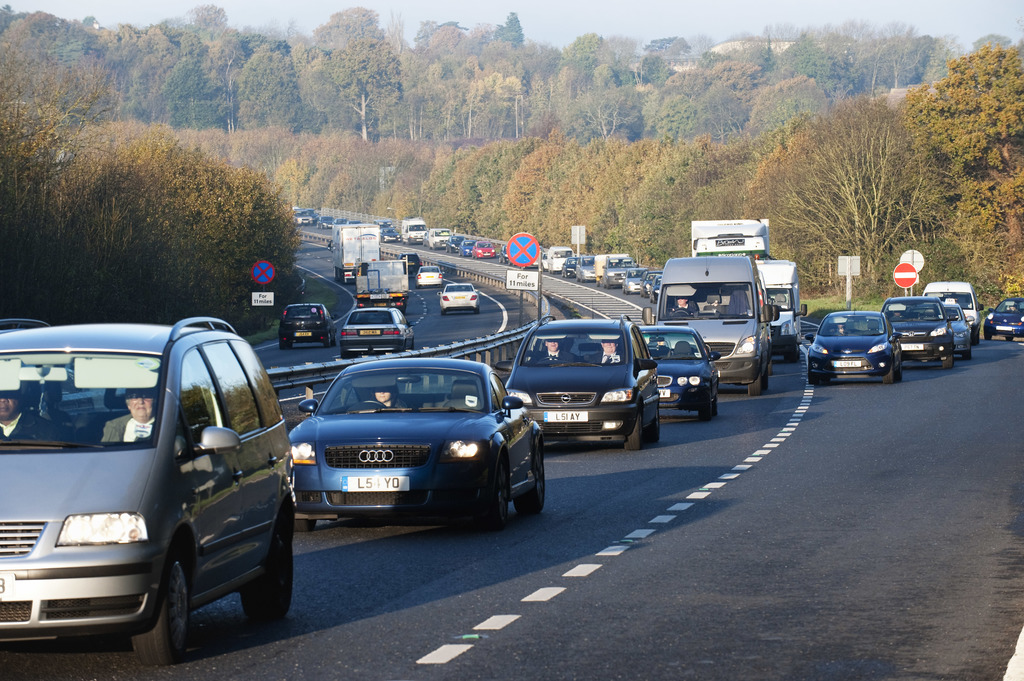Car: (0, 315, 289, 665), (286, 356, 544, 531), (494, 297, 658, 449), (616, 322, 720, 414), (803, 305, 903, 383), (880, 295, 960, 367), (293, 207, 401, 243), (915, 302, 976, 360), (986, 293, 1023, 339), (622, 268, 663, 304), (575, 256, 596, 282), (512, 249, 540, 267), (444, 233, 466, 254), (471, 241, 496, 258), (460, 238, 480, 257), (562, 257, 579, 278), (541, 250, 557, 270), (497, 243, 508, 263), (422, 231, 430, 249)
